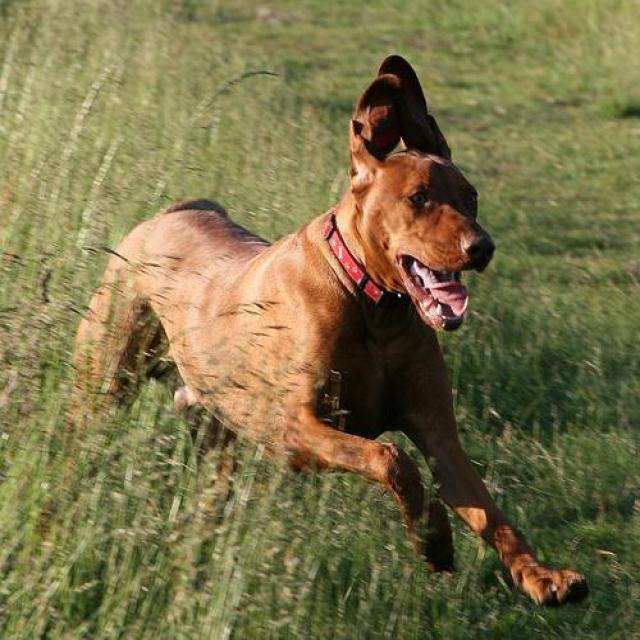vizsla: (37, 54, 590, 614)
